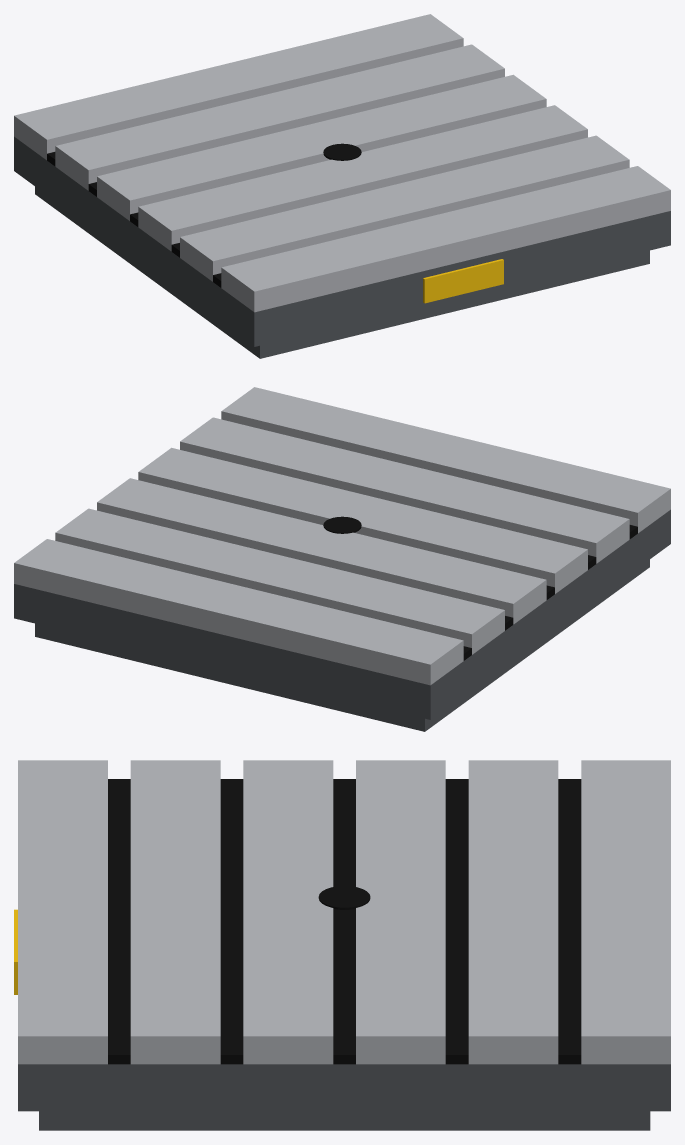
The model's file is pallet_base.glb.
3 renders of one model, top to bottom at view 1: azimuth 30°, elevation 25°; view 2: azimuth 150°, elevation 25°; view 3: azimuth 270°, elevation 25°, orthographic. The views are drawn at different scales.
Parts seen in each view (by area): view 1: pallet_body__steel, pallet_body__steel_dark, pallet_body__yellow, pallet_body__rubber; view 2: pallet_body__steel, pallet_body__steel_dark, pallet_body__rubber; view 3: pallet_body__steel, pallet_body__steel_dark, pallet_body__rubber.
Part boxes in pixels (x1,y1,x2,y2): pallet_body__steel: (14,14,670,312); pallet_body__steel_dark: (14,136,670,358); pallet_body__yellow: (423,259,503,303); pallet_body__rubber: (47,143,361,287); pallet_body__steel: (14,387,670,685); pallet_body__steel_dark: (14,509,670,731); pallet_body__rubber: (323,516,637,660); pallet_body__steel: (18,760,670,1064); pallet_body__steel_dark: (18,1064,670,1130); pallet_body__rubber: (108,779,581,1064).
Size of the model in its own units: 0.63 by 0.1115 by 0.634.
